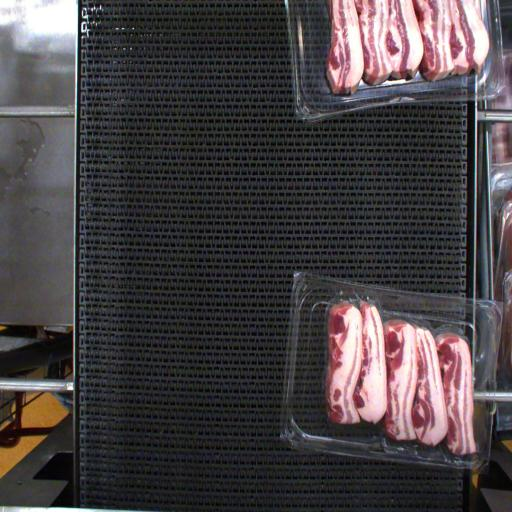unsealed: (314, 284, 482, 361)
